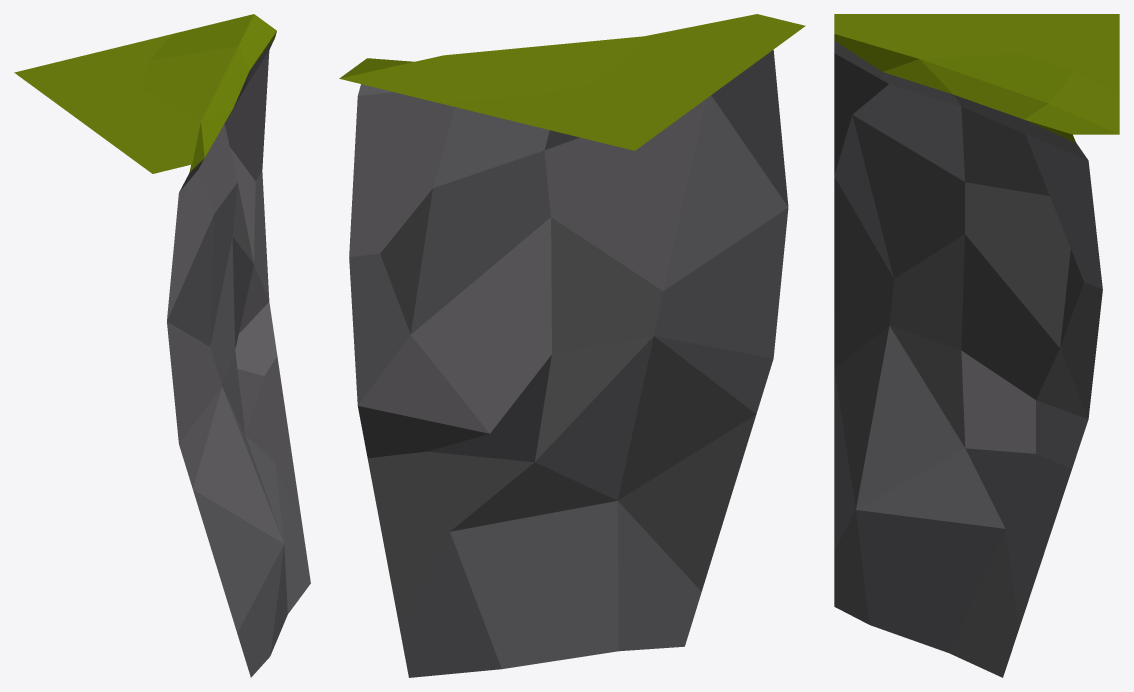
The model's file is mesh_cliff_4x1m_corner_inverted.fbx.
3 views of the same model, side by side, from view 1: azimuth 30°, elevation 25°; view 2: azimuth 150°, elevation 25°; view 3: azimuth 270°, elevation 25° (orthographic). The views are drawn at different scales.
Visible parts, largest first — view 1: mesh_cliff_4x1m_corner_inverted; view 2: mesh_cliff_4x1m_corner_inverted; view 3: mesh_cliff_4x1m_corner_inverted.
Boxes of the visible parts, left/top/right/bottom form: mesh_cliff_4x1m_corner_inverted: left=14, top=14, right=310, bottom=677; mesh_cliff_4x1m_corner_inverted: left=339, top=14, right=805, bottom=677; mesh_cliff_4x1m_corner_inverted: left=834, top=14, right=1119, bottom=677.
Bounding box in the file's own units: 200 × 425 × 200.
